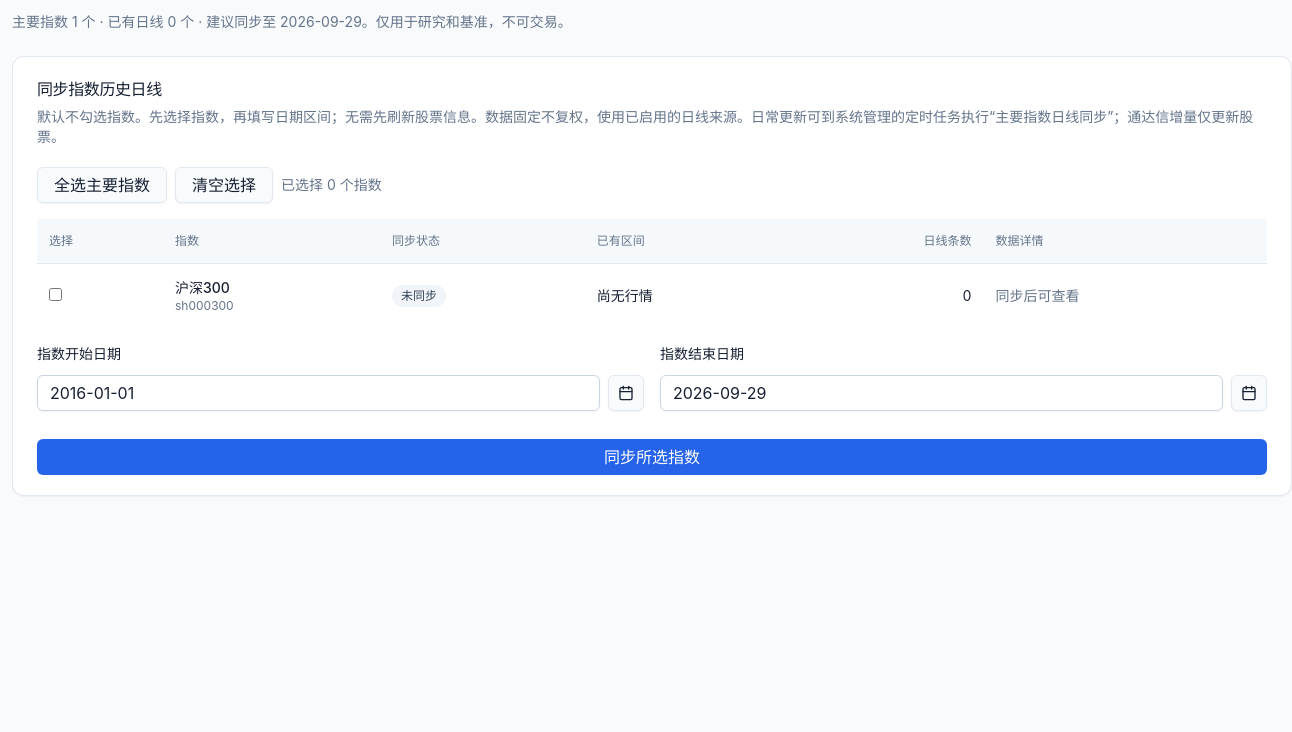
指数数据 › 未同步时显示目录，阻止空选择并按独立区间提交任务
The width and height of the screenshot is (1292, 732).
Expected: the text "沪深300" is shown, left=175, top=278, right=230, bottom=296
Expected: the text "未同步" is shown, left=392, top=284, right=446, bottom=306
Click the button "同步所选指数".
click(652, 457)  # box left=37, top=439, right=1267, bottom=475
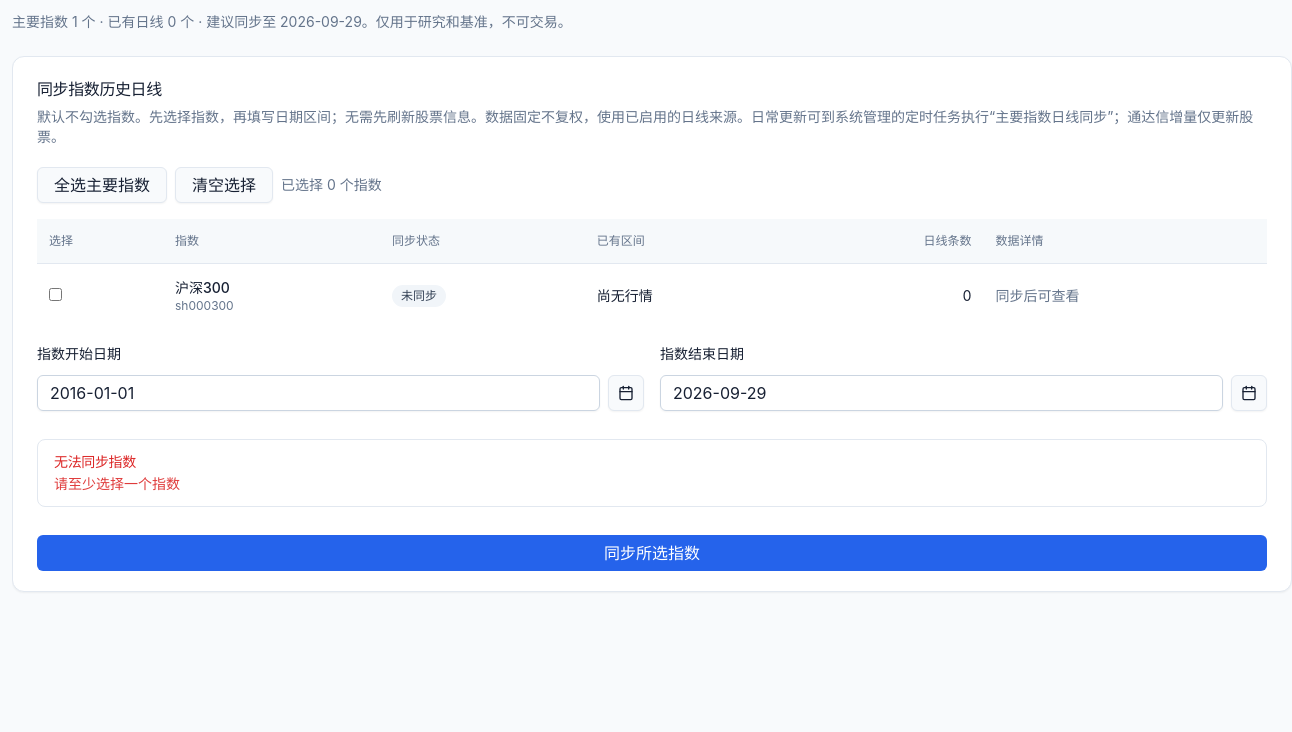
Expected: the text "请至少选择一个指数" is shown, left=54, top=475, right=180, bottom=492
Click the button "全选主要指数".
click(102, 185)  # box left=37, top=167, right=167, bottom=203
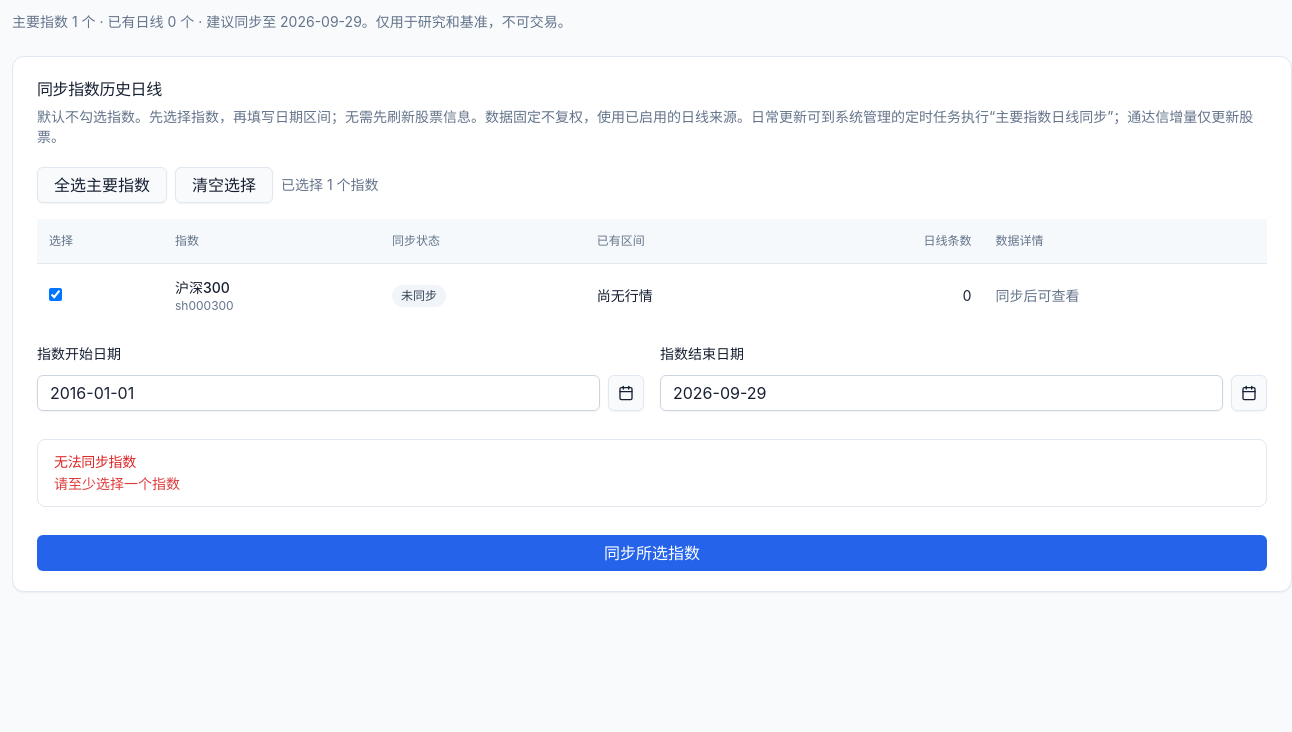
Replace the text in the field labelled "指数开始日期" with "2026-09-28" at (318,393), box left=37, top=375, right=600, bottom=411
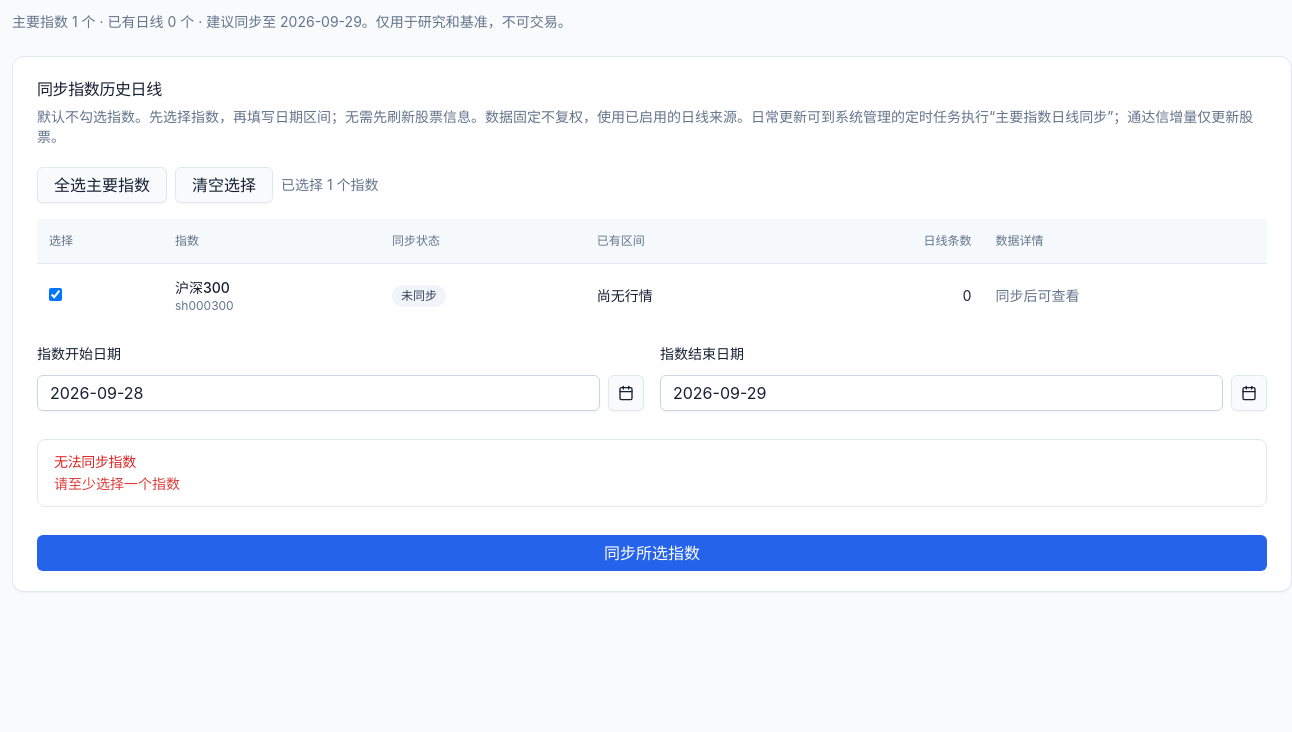
Click the button "同步所选指数".
click(652, 553)  # box left=37, top=535, right=1267, bottom=571
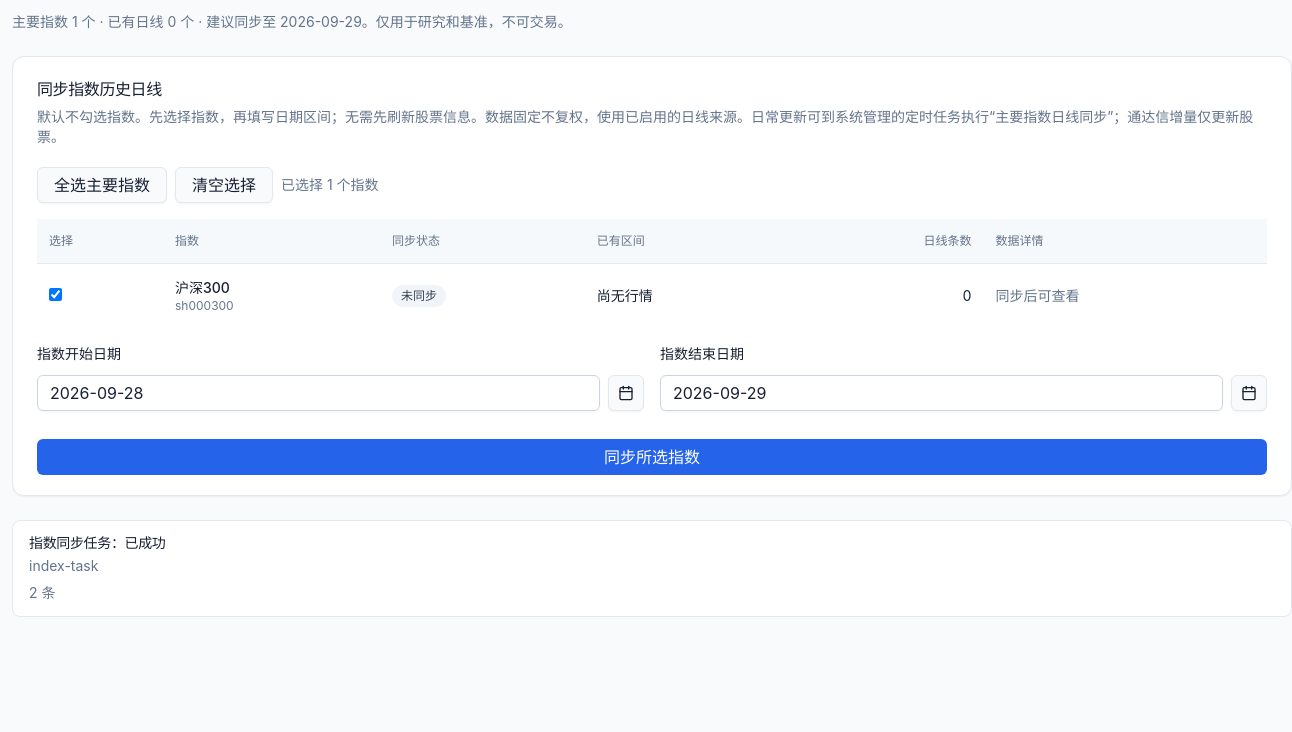
Expected: the text "指数同步任务：已成功" is shown, left=29, top=534, right=166, bottom=551
